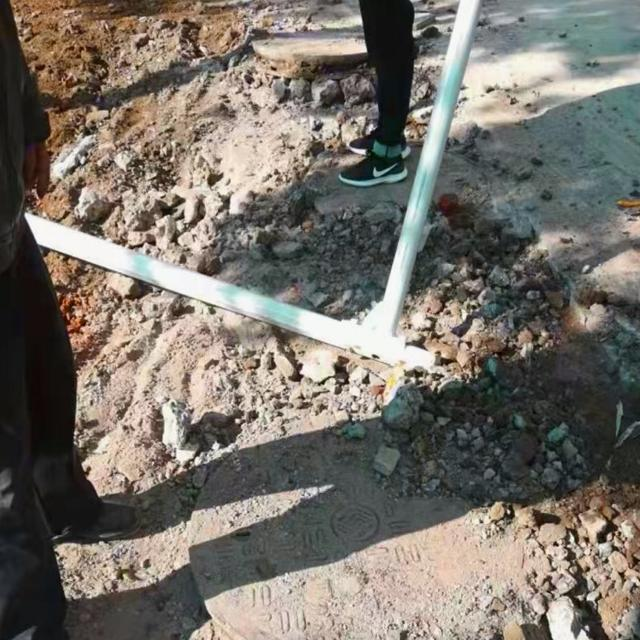circle: (143, 408, 588, 640)
